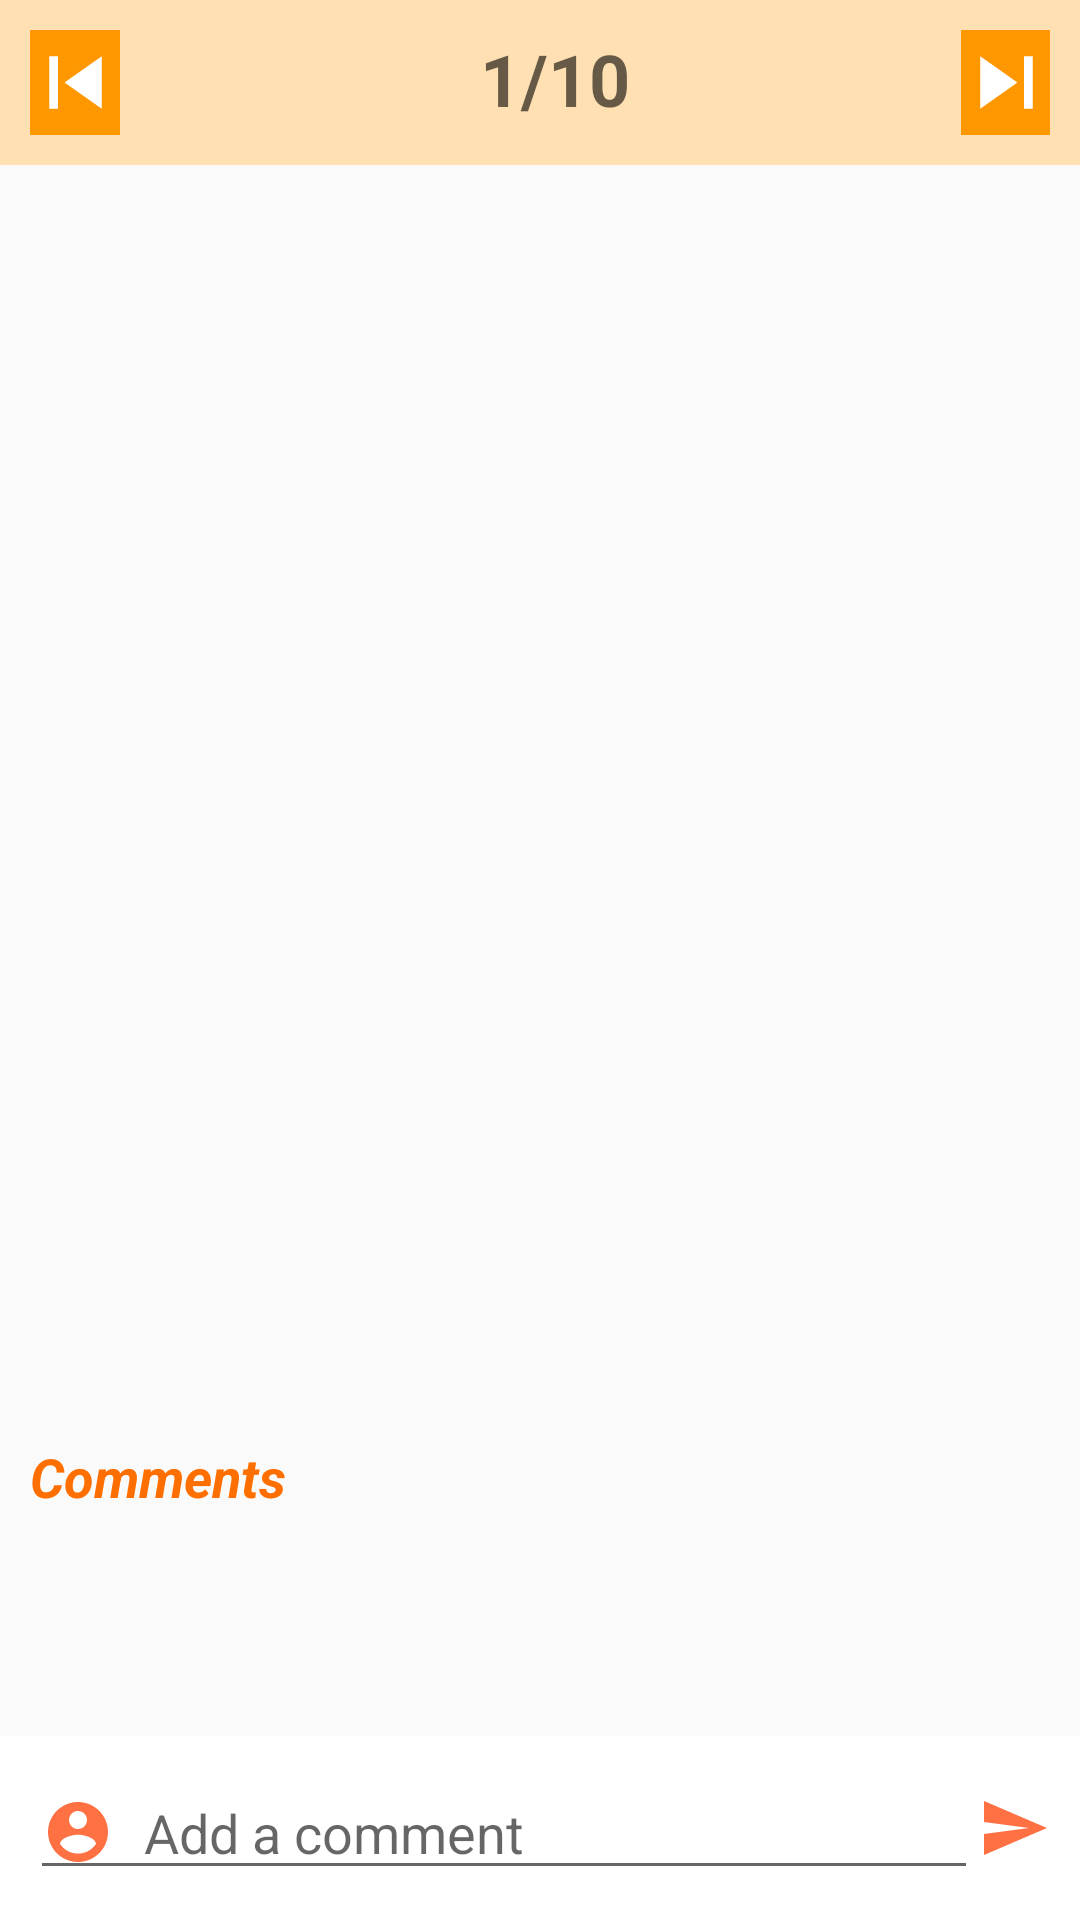

Screen size 1080 x 1920. Icon name, then its center in pixels as [x,y]:
next: [1005,82]
previous: [75,82]
send: [1015,1828]
